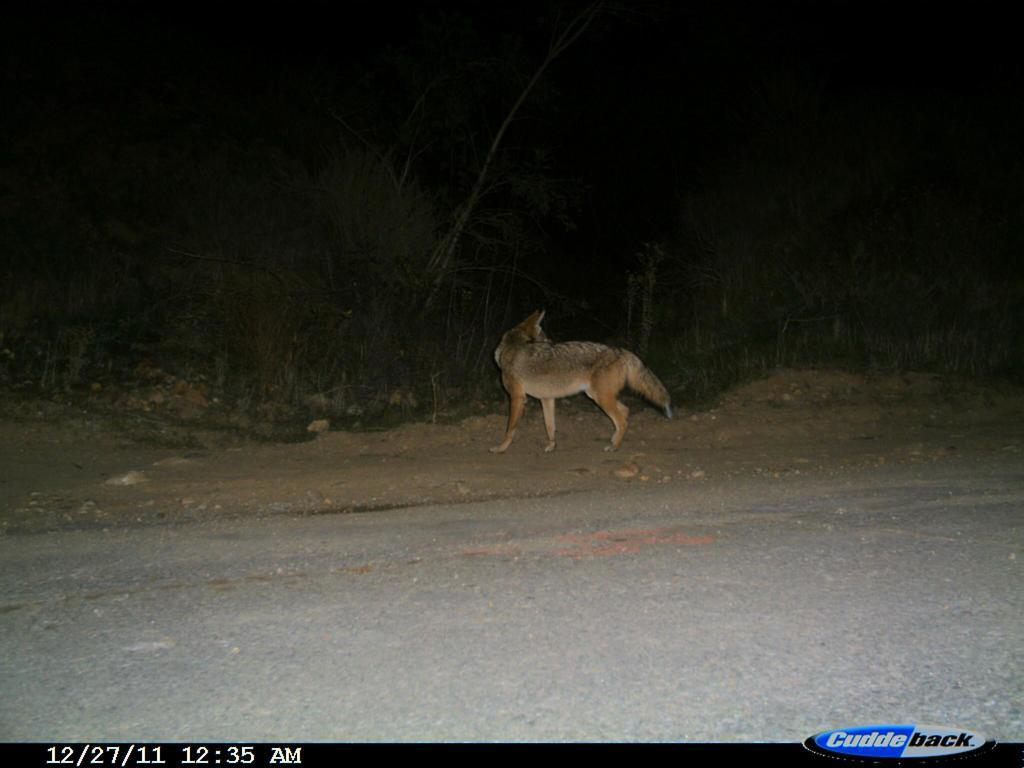coyote: (486, 304, 680, 466)
